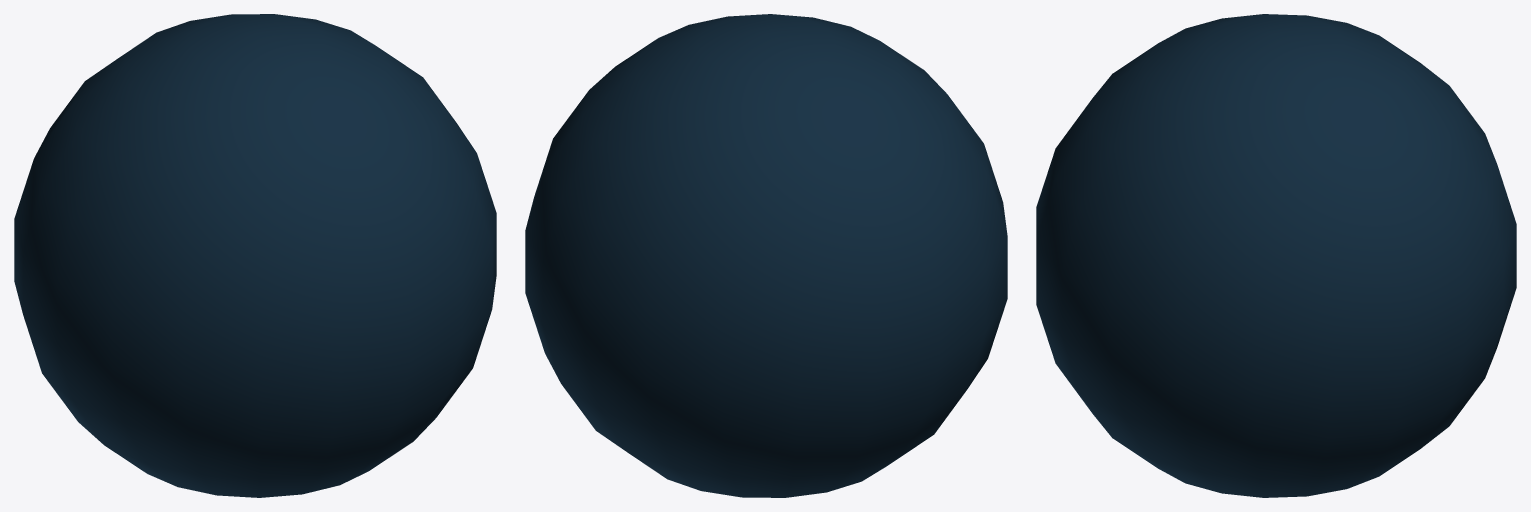
File: Cannonball.gltf
The picture shows the model from 3 angles, left to right: view 1: azimuth 30°, elevation 25°; view 2: azimuth 150°, elevation 25°; view 3: azimuth 270°, elevation 25°; orthographic projection.
Visible parts, largest first — view 1: Cannonball; view 2: Cannonball; view 3: Cannonball.
Part boxes in pixels (x1,y1,x2,y2): Cannonball: (14,14,496,497); Cannonball: (525,14,1007,497); Cannonball: (1036,14,1516,497).
Bounding box in the file's own units: 1.13 × 1.14 × 1.12.
